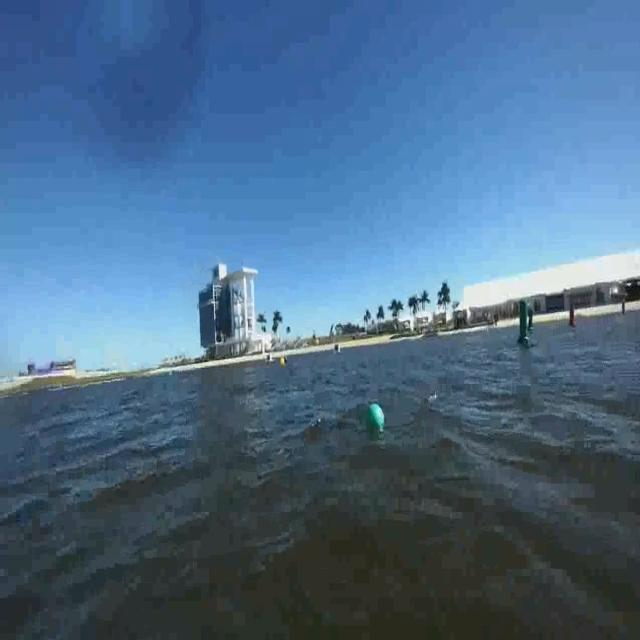green-buoy: (366, 405, 382, 430)
green-column-buoy: (515, 302, 530, 347), (528, 307, 530, 333)
red-column-buoy: (568, 304, 576, 328)
yellow-buoy: (280, 355, 286, 368)
